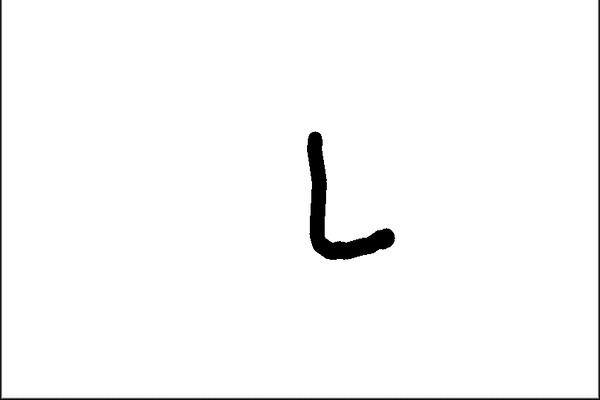L: (298, 125, 398, 265)
